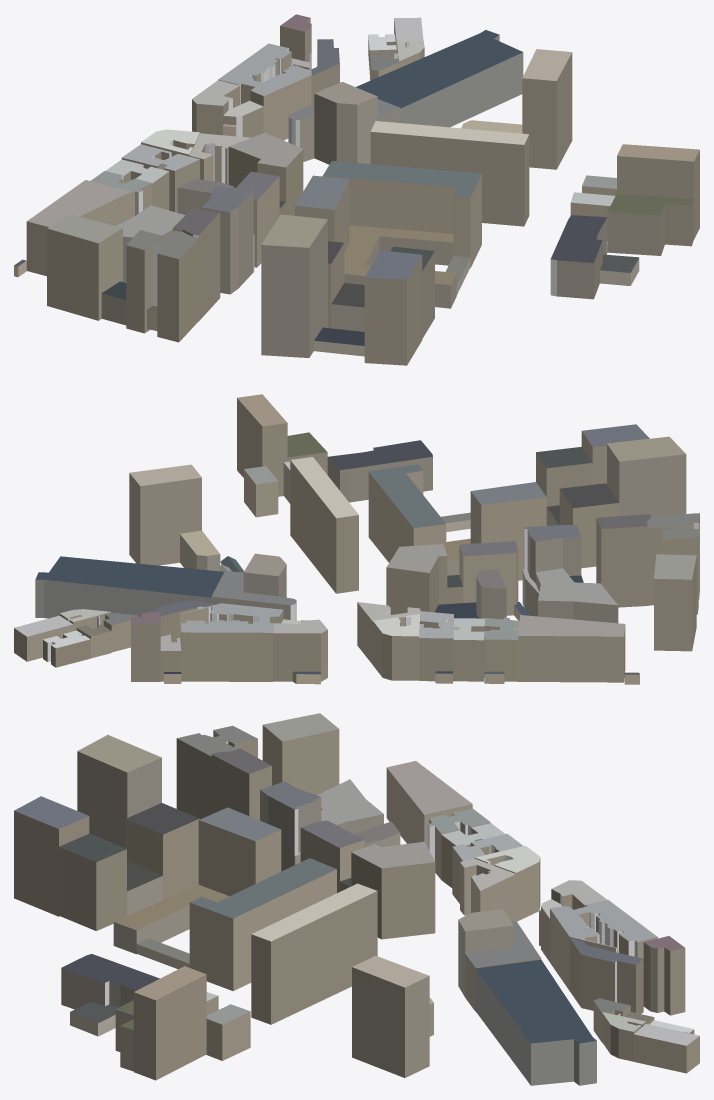
3 renders of one model, top to bottom at view 1: azimuth 30°, elevation 25°; view 2: azimuth 150°, elevation 25°; view 3: azimuth 270°, elevation 25°, orthographic. The views are drawn at different scales.
Visible parts, largest first — view 1: tuile; view 2: tuile; view 3: tuile.
Boxes of the visible parts, left/top/right/bottom form: tuile: left=14, top=14, right=699, bottom=365; tuile: left=14, top=394, right=699, bottom=684; tuile: left=14, top=713, right=699, bottom=1085.
Bounding box in the file's own units: 272 × 52.46 × 273.
